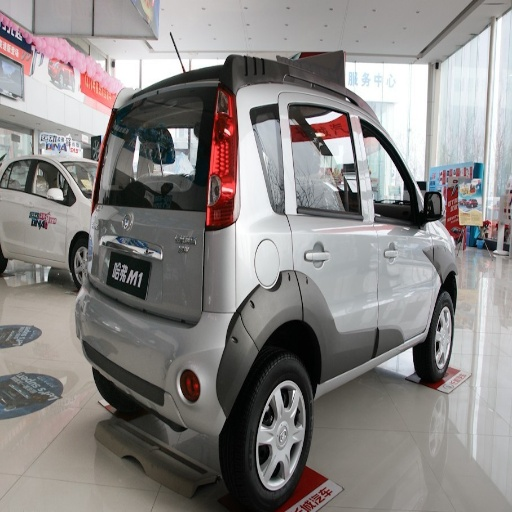back_bumper: (82, 293, 254, 396)
back_right_door: (255, 97, 375, 380), (1, 164, 36, 246)
trunk: (92, 209, 233, 322)
